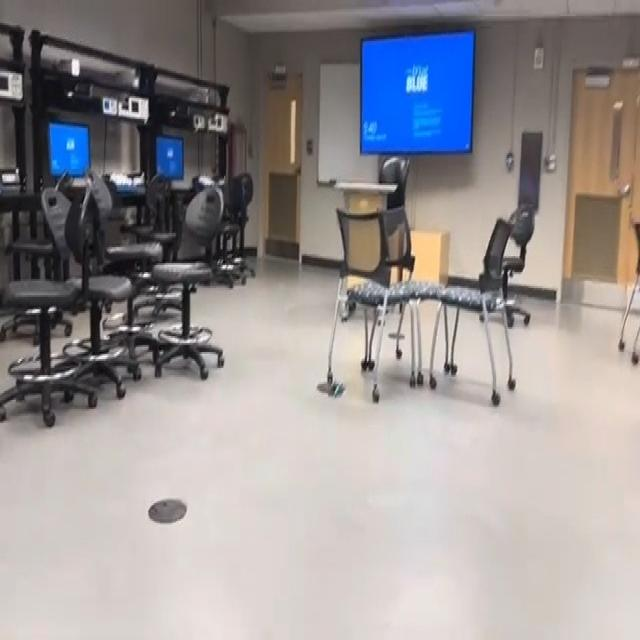drone: (316, 357, 349, 411)
